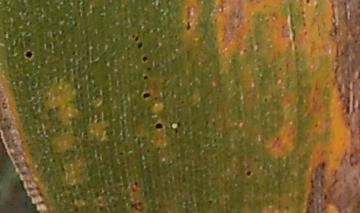tarspot: (129, 200, 144, 211), (348, 152, 358, 168), (23, 48, 34, 60), (344, 96, 351, 114), (154, 121, 165, 132), (140, 90, 151, 101), (131, 180, 139, 193), (351, 94, 355, 115), (299, 9, 307, 19), (244, 167, 251, 178), (185, 20, 191, 32), (136, 40, 144, 49), (173, 127, 180, 137), (320, 160, 326, 171), (104, 130, 115, 136), (343, 10, 349, 21), (333, 23, 338, 36), (141, 54, 148, 63), (312, 122, 321, 129), (357, 93, 360, 112), (262, 95, 269, 103), (174, 121, 182, 128), (310, 178, 315, 189), (302, 21, 308, 30), (322, 192, 328, 201), (308, 198, 314, 207), (141, 74, 148, 81), (71, 49, 77, 57), (146, 65, 152, 72), (313, 2, 319, 9), (178, 99, 185, 105), (337, 93, 344, 99), (304, 1, 312, 6), (303, 29, 308, 37), (310, 189, 315, 197), (207, 199, 213, 205), (342, 1, 348, 7), (234, 13, 240, 19), (212, 137, 218, 143), (357, 68, 360, 80), (134, 35, 139, 42), (129, 33, 136, 38), (117, 150, 124, 155), (152, 96, 159, 101), (275, 134, 279, 142), (280, 23, 285, 29), (211, 119, 216, 125), (242, 47, 246, 54), (353, 38, 357, 45), (285, 132, 289, 138), (145, 147, 149, 152), (337, 86, 341, 91)
